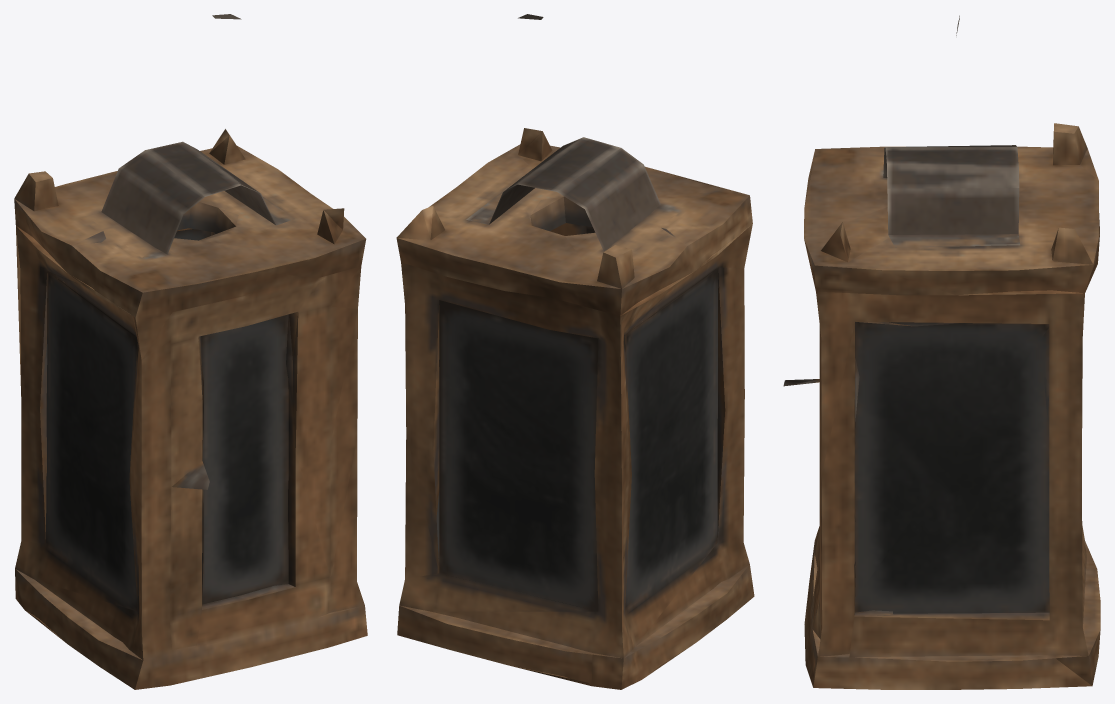
The model's file is lantern_wood.glb.
The picture shows the model from 3 angles, left to right: view 1: azimuth 30°, elevation 25°; view 2: azimuth 150°, elevation 25°; view 3: azimuth 270°, elevation 25°; orthographic projection. The views are drawn at different scales.
Parts seen in each view (by area): view 1: mesh; view 2: mesh; view 3: mesh.
Part boxes in pixels (x1,y1,x2,y2): mesh: [14, 14, 367, 689]; mesh: [396, 14, 754, 689]; mesh: [783, 15, 1100, 689].
Size of the model in its own units: 0.2236 by 0.5301 by 0.2391.
Materials: 1 (1 with a texture image).
